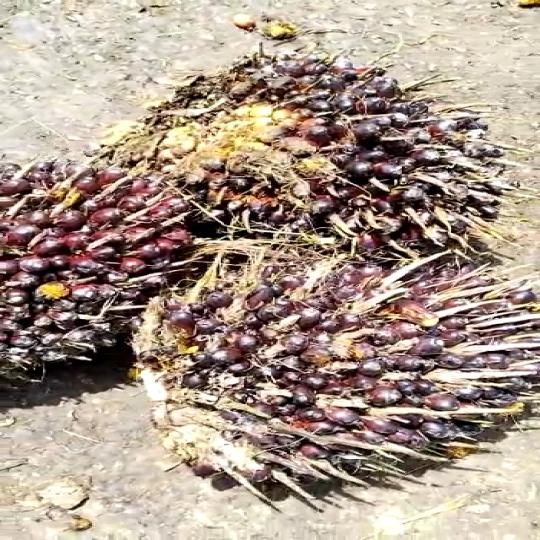kurang masak: (146, 255, 540, 495), (118, 44, 514, 258), (0, 157, 160, 366)
